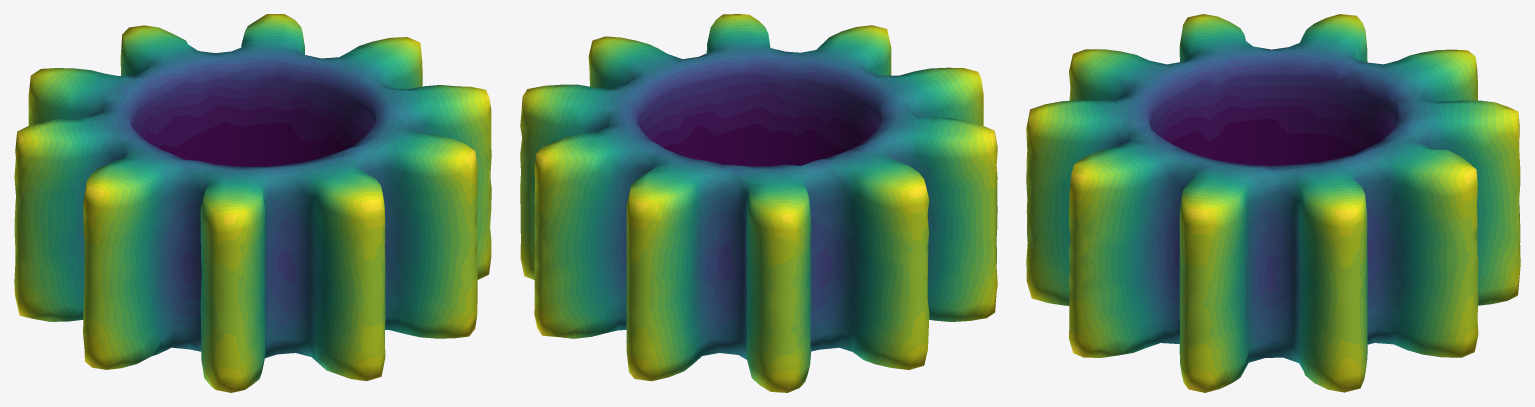
The model's file is spur_gear_m2_N10_core_r6.obj.
The picture shows the model from 3 angles, left to right: view 1: azimuth 30°, elevation 25°; view 2: azimuth 150°, elevation 25°; view 3: azimuth 270°, elevation 25°; orthographic projection.
Size of the model in its own units: 1.15 by 0.5001 by 1.2.
